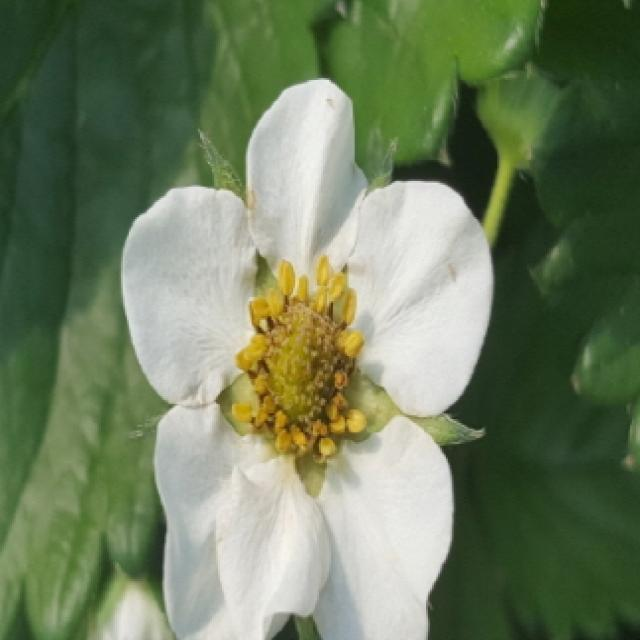Blossom Blight: (225, 250, 371, 467)
